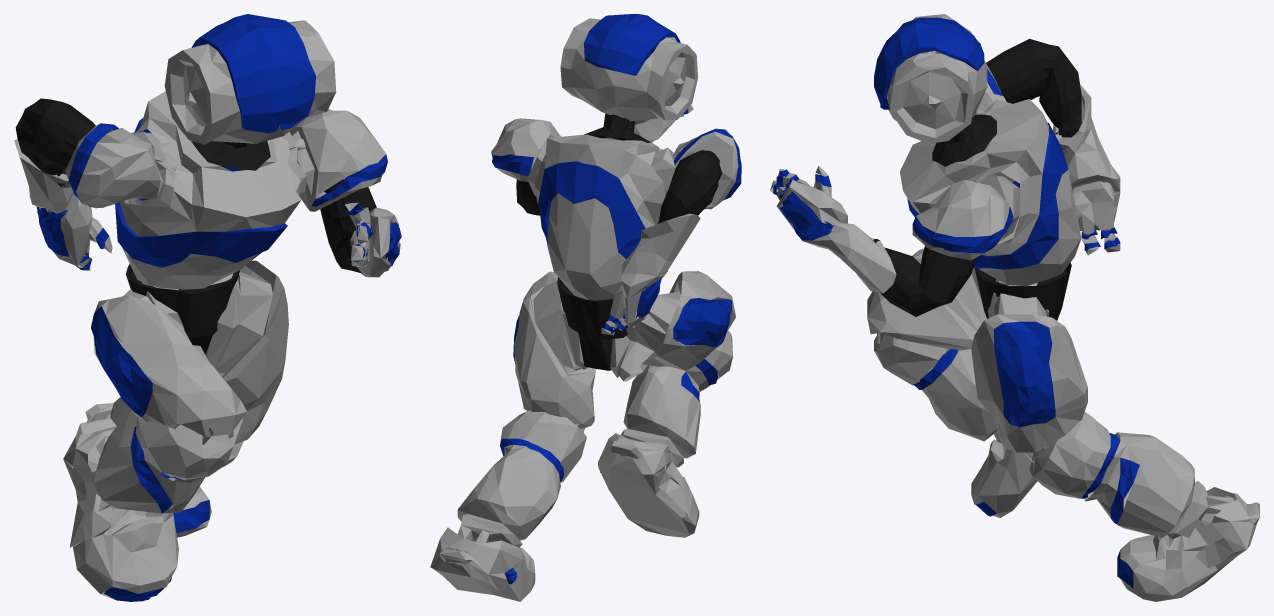
The model's file is run14.obj.
The picture shows the model from 3 angles, left to right: view 1: azimuth 30°, elevation 25°; view 2: azimuth 150°, elevation 25°; view 3: azimuth 270°, elevation 25°; orthographic projection. The views are drawn at different scales.
Visible parts, largest first — view 1: Robot2.001_Robot2Mesh.000, Robot2_Robot2Mesh.004, Robot2.002_Robot2Mesh.001; view 2: Robot2.001_Robot2Mesh.000, Robot2_Robot2Mesh.004, Robot2.002_Robot2Mesh.001; view 3: Robot2.001_Robot2Mesh.000, Robot2_Robot2Mesh.004, Robot2.002_Robot2Mesh.001.
Part boxes in pixels (x1,y1,x2,y2): Robot2.001_Robot2Mesh.000: (14, 20, 400, 599); Robot2_Robot2Mesh.004: (37, 14, 401, 601); Robot2.002_Robot2Mesh.001: (15, 98, 389, 353); Robot2.001_Robot2Mesh.000: (430, 18, 740, 601); Robot2_Robot2Mesh.004: (491, 14, 741, 584); Robot2.002_Robot2Mesh.001: (516, 113, 722, 370); Robot2.001_Robot2Mesh.000: (770, 14, 1259, 601); Robot2_Robot2Mesh.004: (773, 17, 1139, 588); Robot2.002_Robot2Mesh.001: (873, 38, 1082, 320).
Size of the model in its own units: 0.98 by 1.85 by 1.51.
